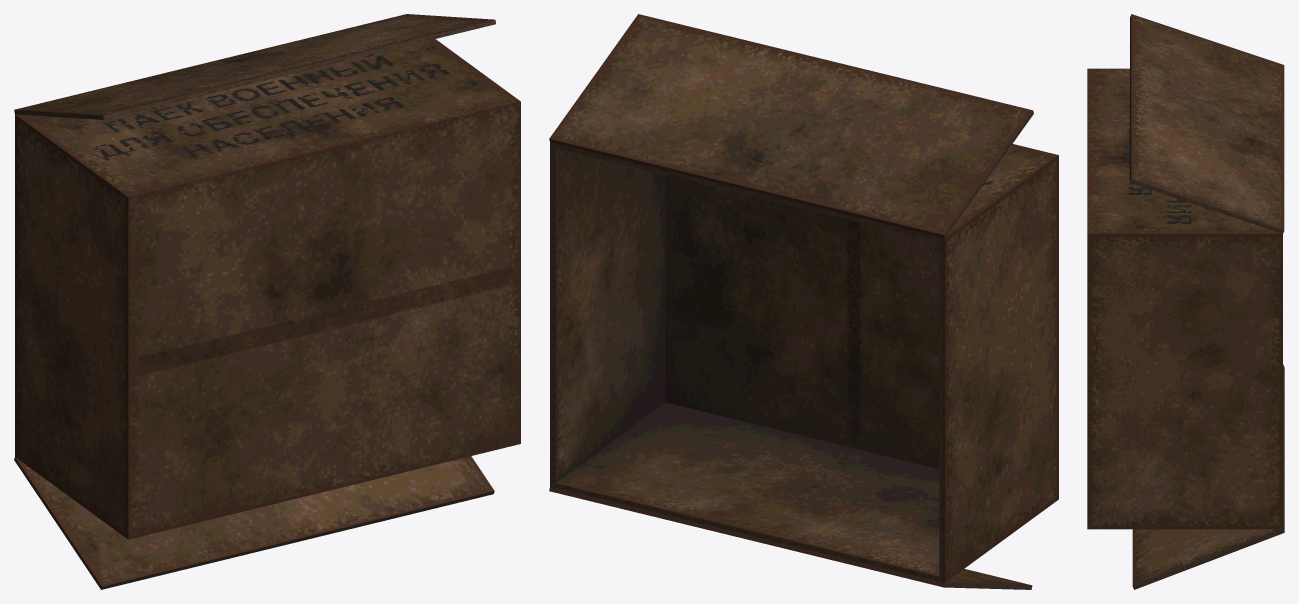
Rendered from Box_opened.fbx.
The picture shows the model from 3 angles, left to right: view 1: azimuth 30°, elevation 25°; view 2: azimuth 150°, elevation 25°; view 3: azimuth 270°, elevation 25°; orthographic projection. The views are drawn at different scales.
Visible parts, largest first — view 1: Box_opened; view 2: Box_opened; view 3: Box_opened.
Part boxes in pixels (left/top/right/bottom): Box_opened: left=14, top=14, right=520, bottom=589; Box_opened: left=549, top=14, right=1058, bottom=589; Box_opened: left=1087, top=14, right=1284, bottom=589.
Bounding box in the file's own units: 0.3 × 0.3473 × 0.1512.
